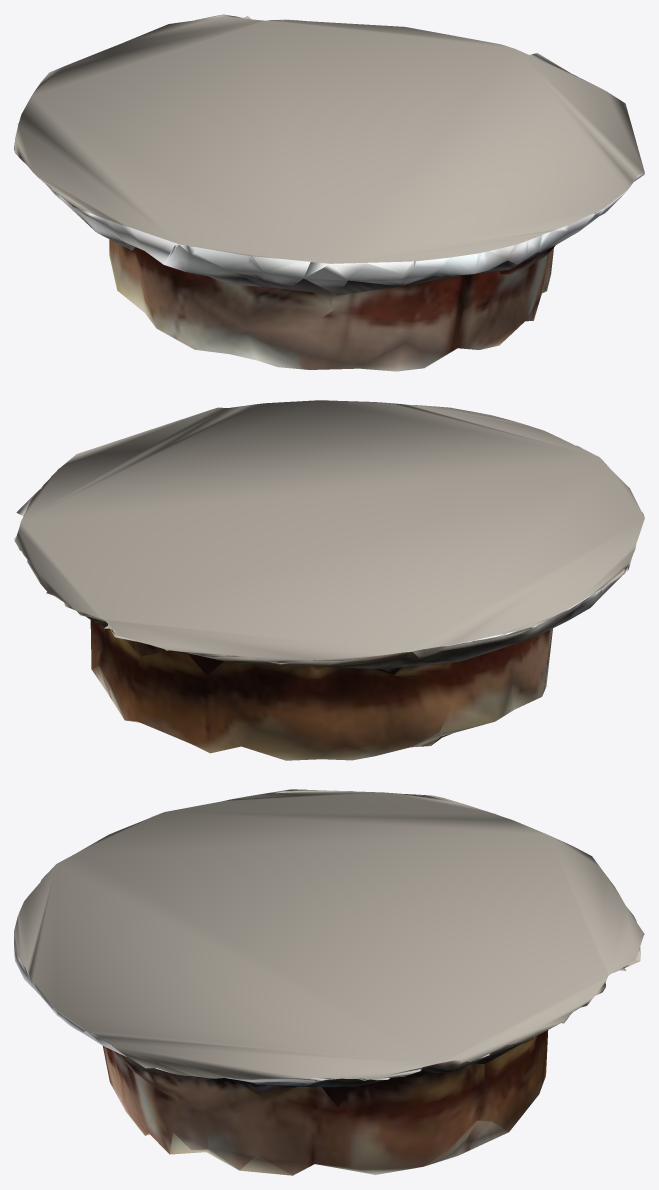
The model's file is cake_898.obj.
3 views of the same model, one above another, from view 1: azimuth 30°, elevation 25°; view 2: azimuth 150°, elevation 25°; view 3: azimuth 270°, elevation 25° (orthographic). The views are drawn at different scales.
Bounding box in the file's own units: 0.1767 × 0.0539 × 0.1765.
Materials: 1 (1 with a texture image).
